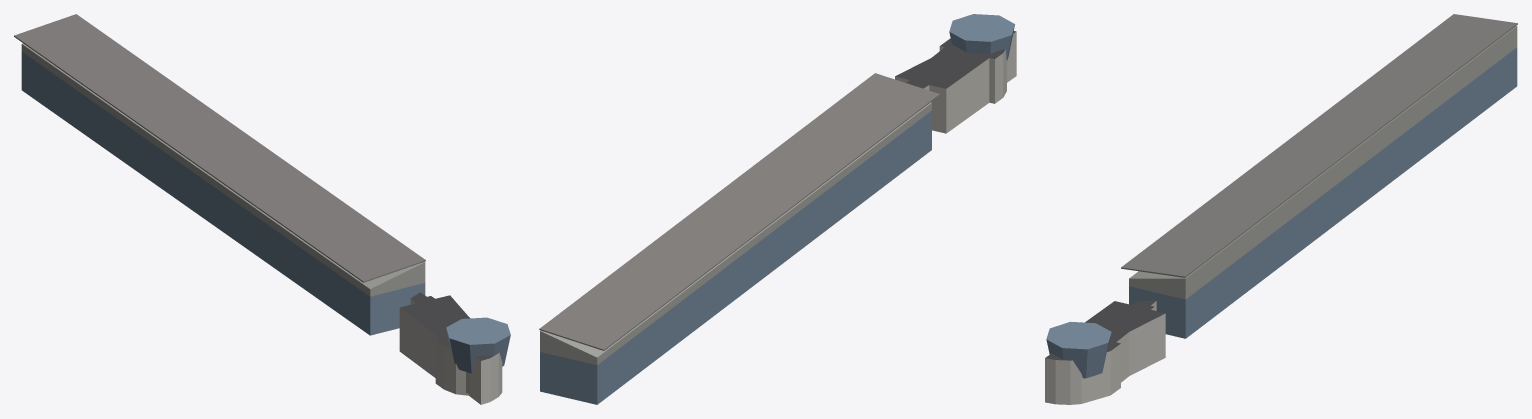
The model's file is pits_far.glb.
3 views of the same model, side by side, from view 1: azimuth 30°, elevation 25°; view 2: azimuth 150°, elevation 25°; view 3: azimuth 330°, elevation 25° (orthographic).
Visible parts, largest first — view 1: chunk_0_0; view 2: chunk_0_0; view 3: chunk_0_0.
Boxes of the visible parts, left/top/right/bottom form: chunk_0_0: left=14, top=14, right=510, bottom=404; chunk_0_0: left=539, top=14, right=1016, bottom=404; chunk_0_0: left=1045, top=14, right=1517, bottom=404.
Bounding box in the file's own units: 31.56 × 25.4 × 315.
